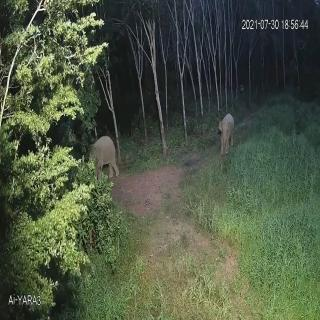Elephant: (86, 134, 124, 182), (216, 112, 238, 162)
